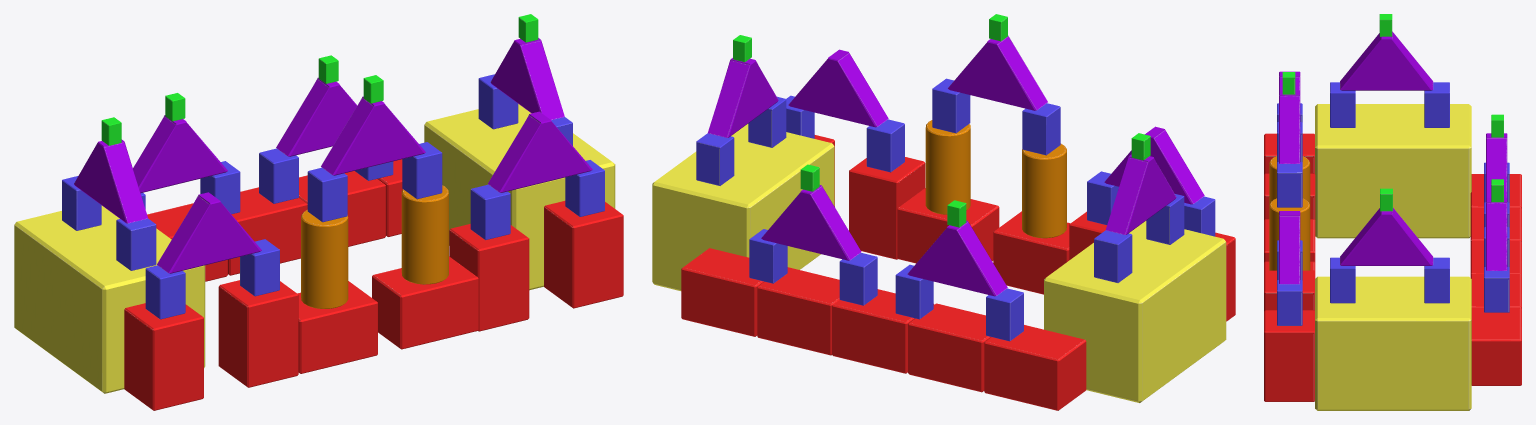
The model's file is Castle2.fbx.
3 renders of one model, left to right at view 1: azimuth 30°, elevation 25°; view 2: azimuth 150°, elevation 25°; view 3: azimuth 270°, elevation 25°, orthographic. The views are drawn at different scales.
Parts seen in each view (by area): view 1: block160, block161, block148, block151, block154, block109, block153, block147, Triangle3, triangle2, triangle1, Cylinder1 (+20 smaller); view 2: block160, block161, block90, block168, block170, block171, block153, block169, Triangle3, triangle1, triangle6, triangle7 (+23 smaller); view 3: block161, block160, block154, block171, triangle4, triangle5, Triangle3, triangle1, triangle6, Cylinder2, triangle7, block158 (+20 smaller).
Boxes of the visible parts, x1,y1,x2,y2 form: block160: [14, 205, 205, 393]; block161: [424, 104, 615, 290]; block148: [218, 280, 298, 387]; block151: [124, 303, 203, 410]; block154: [544, 201, 623, 308]; block109: [372, 256, 478, 349]; block153: [449, 224, 529, 331]; block147: [297, 281, 377, 373]; Triangle3: [488, 111, 592, 192]; triangle2: [157, 192, 261, 273]; triangle1: [321, 96, 425, 175]; Cylinder1: [301, 210, 348, 308]; block160: [1044, 221, 1226, 402]; block161: [652, 124, 834, 290]; block90: [984, 325, 1086, 410]; block168: [908, 303, 991, 392]; block170: [757, 267, 839, 355]; block171: [681, 248, 764, 336]; block153: [849, 157, 925, 259]; block169: [832, 289, 934, 373]; Triangle3: [788, 49, 888, 127]; triangle1: [948, 35, 1047, 110]; triangle6: [761, 185, 861, 260]; triangle7: [907, 220, 1007, 296]; block161: [1315, 276, 1471, 410]; block160: [1315, 104, 1471, 238]; block154: [1264, 310, 1314, 401]; block171: [1471, 307, 1521, 385]; triangle4: [1340, 31, 1433, 90]; triangle5: [1340, 208, 1433, 265]; Triangle3: [1279, 211, 1300, 284]; triangle1: [1279, 90, 1300, 163]; triangle6: [1486, 197, 1507, 270]; Cylinder2: [1269, 198, 1310, 270]; triangle7: [1486, 133, 1507, 198]; block158: [1277, 162, 1302, 207].
Bounding box in the file's own units: 4.98 × 2.46 × 2.51.
